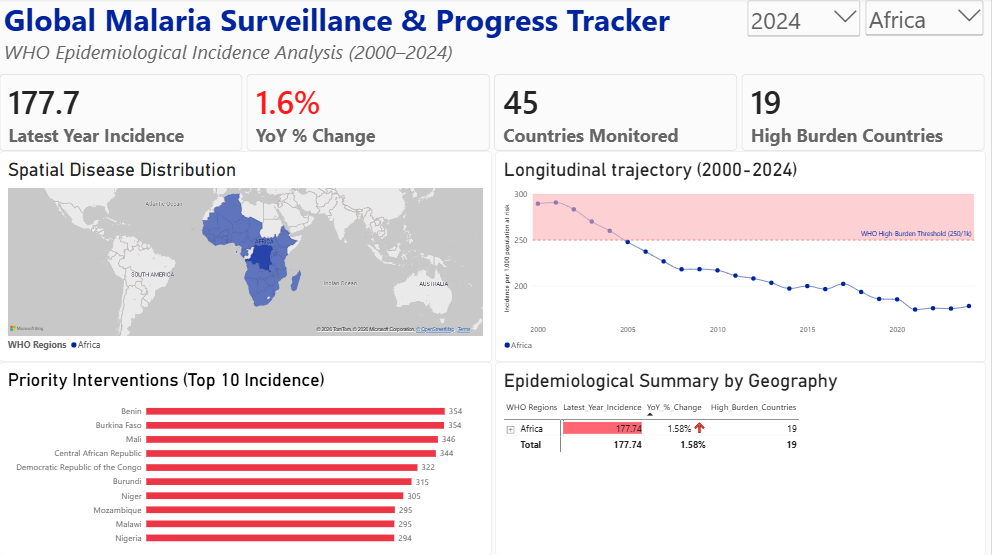

This screenshot's page, from the dashboard's own definition file:
{"tool":"powerbi","page":{"name":"Page 1","canvas":[1920,1080],"ordinal":0},"visuals":[{"type":"textbox","box":[9.8,0,1426.5,147.3],"z":0},{"type":"cardVisual","fields":{"Data":["Fact_Malaria_Incidence.Latest_Year_Incidence","Fact_Malaria_Incidence.YoY_%_Change","Fact_Malaria_Incidence.Countries_Monitored","Fact_Malaria_Incidence.High_Burden_Countries"]},"box":[0,147.1,1910.3,149],"z":1000},{"type":"slicer","fields":{"Values":["Fact_Malaria_Incidence.Year"]},"box":[1443.7,0,228.3,100.7],"z":2000},{"type":"slicer","fields":{"Values":["Fact_Malaria_Incidence.WHO Regions"]},"box":[1672,0,238.2,100.7],"z":3000},{"type":"filledMap","title":"Spatial Disease Distribution","fields":{"Category":["Fact_Malaria_Incidence.Country Name"],"Series":["Fact_Malaria_Incidence.WHO Regions"]},"box":[0,296.1,954.2,408.4],"z":4000},{"type":"lineChart","title":"Longitudinal trajectory (2000-2024)","fields":{"Category":["Fact_Malaria_Incidence.Year"],"Series":["Fact_Malaria_Incidence.WHO Regions"],"Y":["Fact_Malaria_Incidence.Avg_Malaria_Incidence"]},"box":[960,296.1,950.3,408.4],"z":5000},{"type":"clusteredBarChart","title":"Priority Interventions (Top 10 Incidence)","fields":{"Category":["Fact_Malaria_Incidence.Country Name"],"Y":["Fact_Malaria_Incidence.Avg_Malaria_Incidence"]},"box":[0,704.5,954.2,375.5],"z":6000},{"type":"pivotTable","title":"Epidemiological Summary by Geography","fields":{"Rows":["Fact_Malaria_Incidence.WHO Regions","Fact_Malaria_Incidence.Country Name"],"Values":["Fact_Malaria_Incidence.Latest_Year_Incidence","Fact_Malaria_Incidence.YoY_%_Change","Fact_Malaria_Incidence.High_Burden_Countries"]},"box":[960,704.5,950.3,375.5],"z":7000}]}

Visuals, with their boxes in screenshot pixels (x1, y1, x2, y2), scaled from the page's 1920x1080 canvas onto the 992x555 screenshot:
textbox: x1=5, y1=0, x2=742, y2=76
cardVisual - Fact_Malaria_Incidence.Latest_Year_Incidence x Fact_Malaria_Incidence.YoY_%_Change: x1=0, y1=76, x2=987, y2=152
slicer - Fact_Malaria_Incidence.Year: x1=746, y1=0, x2=864, y2=52
slicer - Fact_Malaria_Incidence.WHO Regions: x1=864, y1=0, x2=987, y2=52
"Spatial Disease Distribution" filledMap: x1=0, y1=152, x2=493, y2=362
"Longitudinal trajectory (2000-2024)" lineChart: x1=496, y1=152, x2=987, y2=362
"Priority Interventions (Top 10 Incidence)" clusteredBarChart: x1=0, y1=362, x2=493, y2=554
"Epidemiological Summary by Geography" pivotTable: x1=496, y1=362, x2=987, y2=554
